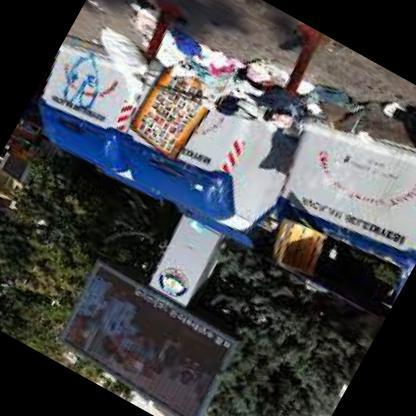Garbage: (204, 42, 328, 150), (127, 9, 240, 92), (88, 24, 166, 104), (389, 93, 415, 181)
